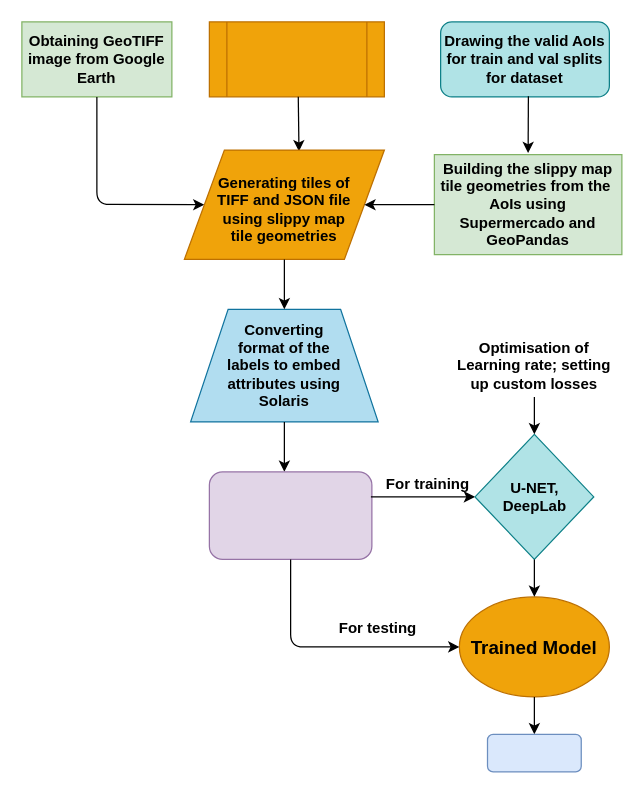
Some shapes in this 644 by 794 pixel diagram are drawn without their labels. Here are the shapes that lost their labels. From the top down, the centre of each, then its label:
(x=296, y=59): Obtaining the geometry labels from the organisation
(x=290, y=515): Exporting the dataset in correct PNG/JPG format for training purpose
(x=533, y=752): RESULTS
